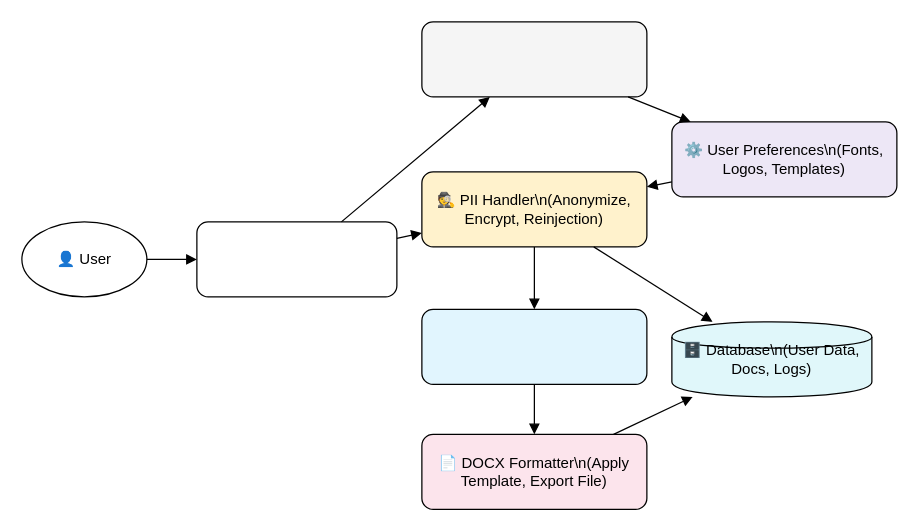
This 919x531 diagram has some shape labels left out. The shapes that lost their labels are listed below. From the top down, each one's box as (x1, y1, x2, y2) in pixels, then its label:
(421, 21, 647, 97): 🔐 Auth Service\n(Login, MFA, SSO)
(196, 221, 397, 297): 🌐 Web Frontend\n(HTMX or React)
(421, 308, 647, 384): 🧠 OpenAI Engine\n(Prompt Building, Token Mgmt)
